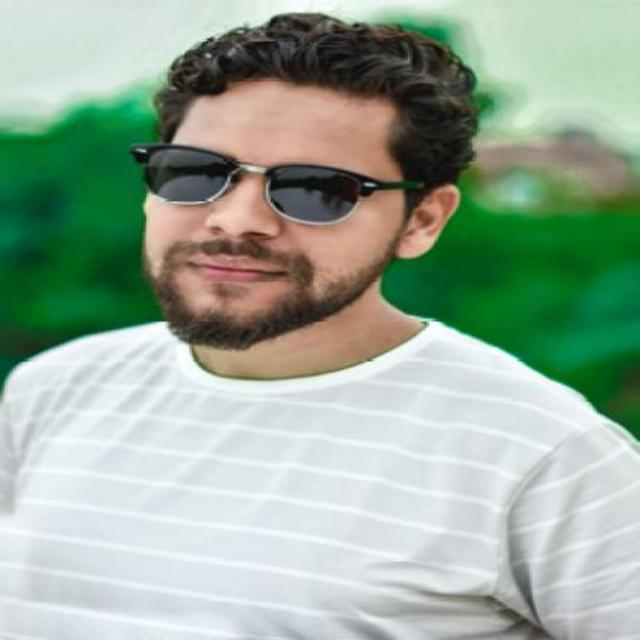sunglasses: (127, 142, 427, 224)
